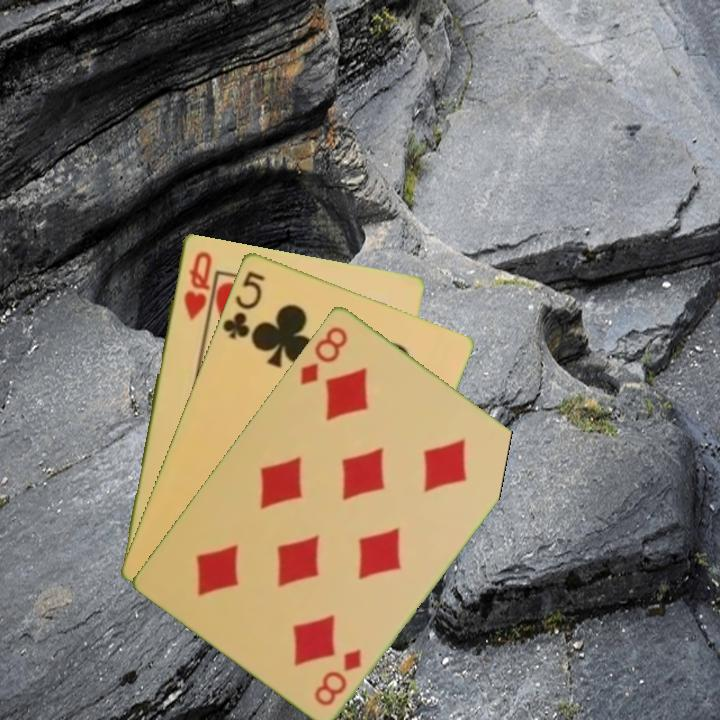5c: (218, 267, 268, 342)
8d: (296, 322, 351, 388), (310, 644, 365, 709)
Qh: (179, 247, 215, 323)
